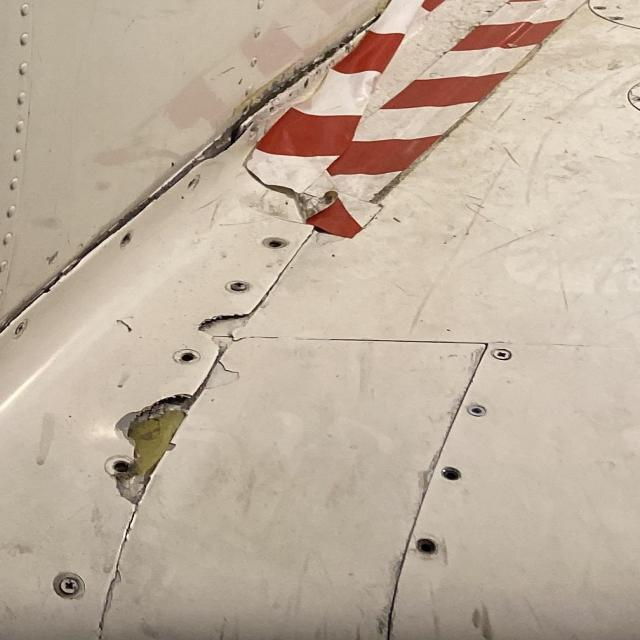Crack: (139, 9, 388, 199), (114, 399, 194, 506), (199, 313, 249, 346)
Missing-head: (414, 537, 441, 557), (175, 350, 201, 368), (263, 237, 291, 251), (440, 465, 463, 481), (121, 234, 133, 249)
Paint-off: (201, 354, 243, 397), (312, 232, 356, 249), (44, 251, 63, 268)
